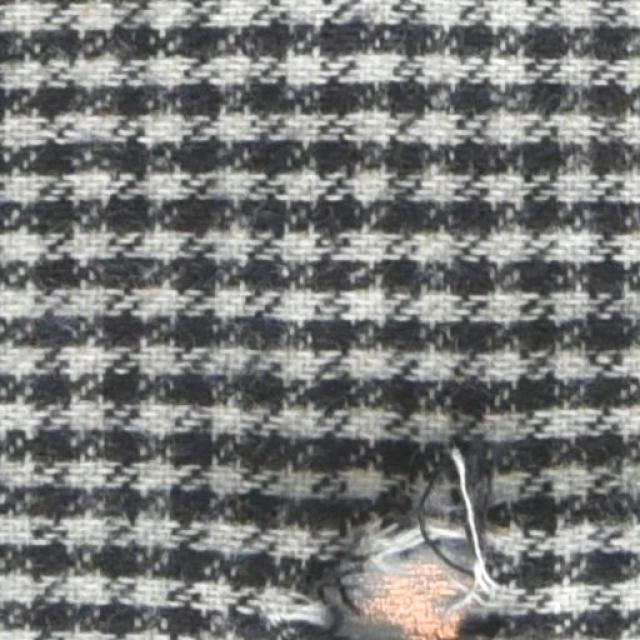Hole: (354, 552, 470, 640)
Snag: (385, 459, 518, 608)
